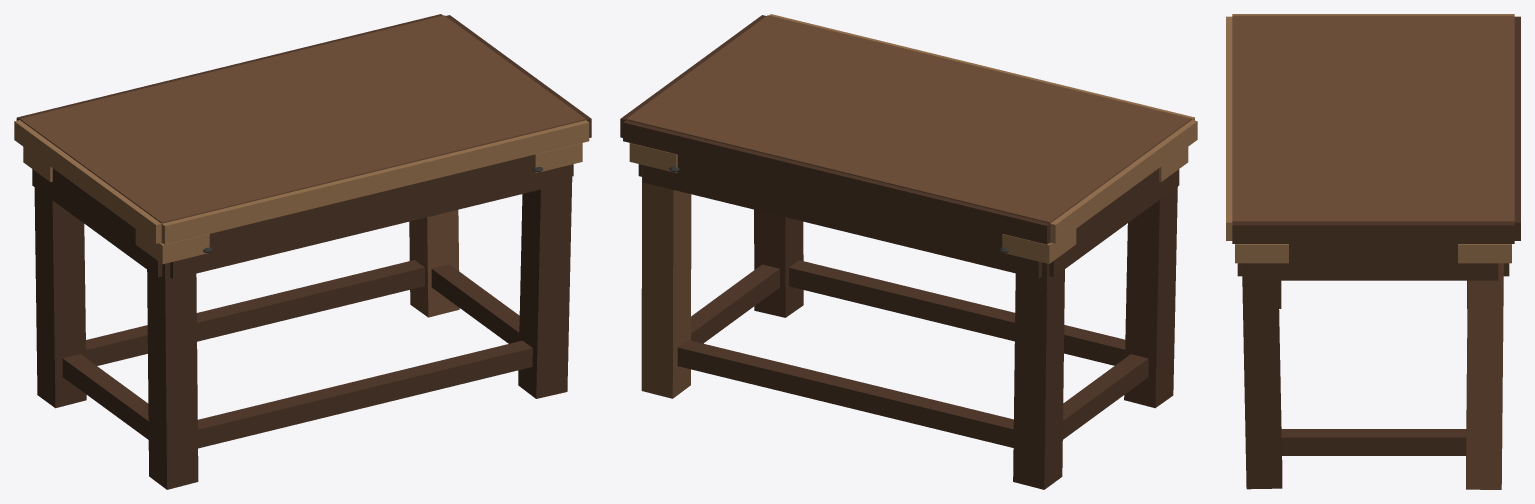
File: table.glb
The picture shows the model from 3 angles, left to right: view 1: azimuth 30°, elevation 25°; view 2: azimuth 150°, elevation 25°; view 3: azimuth 270°, elevation 25°; orthographic projection.
Visible parts, largest first — view 1: Table Top, Front Apron, Table Leg 1, Table Leg 2, Lower Front Support, Front Edge, Table Leg 3, Lower Back Support, Table Leg 4, Left Edge, Left Apron, Lower Right Support (+5 smaller); view 2: Table Top, Back Apron, Table Leg 3, Table Leg 4, Lower Back Support, Back Edge, Table Leg 1, Lower Front Support, Table Leg 2, Left Edge, Left Apron, Lower Right Support (+5 smaller); view 3: Table Top, Table Leg 2, Table Leg 4, Right Apron, Right Edge, Lower Right Support, Front Edge, Back Edge, Corner Block 2, Corner Block 4, Left Edge.
Boxes of the visible parts, x1,y1,x2,y2 form: Table Top: [19, 15, 586, 243]; Front Apron: [170, 155, 569, 279]; Table Leg 1: [147, 262, 198, 489]; Table Leg 2: [518, 164, 572, 398]; Lower Front Support: [198, 340, 532, 448]; Front Edge: [161, 120, 589, 244]; Table Leg 3: [34, 187, 86, 408]; Lower Back Support: [86, 260, 424, 365]; Table Leg 4: [409, 210, 459, 317]; Left Edge: [14, 120, 161, 243]; Left Apron: [32, 168, 162, 277]; Lower Right Support: [431, 264, 519, 343]; Table Top: [626, 15, 1191, 243]; Back Apron: [642, 154, 1041, 278]; Table Leg 3: [1013, 262, 1064, 489]; Table Leg 4: [641, 165, 691, 398]; Lower Back Support: [677, 340, 1013, 447]; Back Edge: [623, 120, 1050, 244]; Table Leg 1: [1124, 186, 1177, 408]; Lower Front Support: [789, 260, 1125, 365]; Table Leg 2: [754, 209, 803, 317]; Left Edge: [1050, 120, 1197, 243]; Left Apron: [1049, 168, 1179, 277]; Lower Right Support: [691, 264, 779, 343]; Table Top: [1232, 15, 1514, 222]; Table Leg 2: [1242, 263, 1282, 489]; Table Leg 4: [1466, 263, 1503, 489]; Right Apron: [1248, 244, 1498, 280]; Right Edge: [1232, 222, 1514, 243]; Lower Right Support: [1281, 429, 1466, 455]; Front Edge: [1226, 16, 1232, 240]; Back Edge: [1514, 16, 1520, 240]; Corner Block 2: [1235, 244, 1288, 263]; Corner Block 4: [1458, 244, 1511, 263]; Left Edge: [1232, 14, 1514, 15].
Size of the model in its own units: 3.9 by 2.35 by 2.3.
